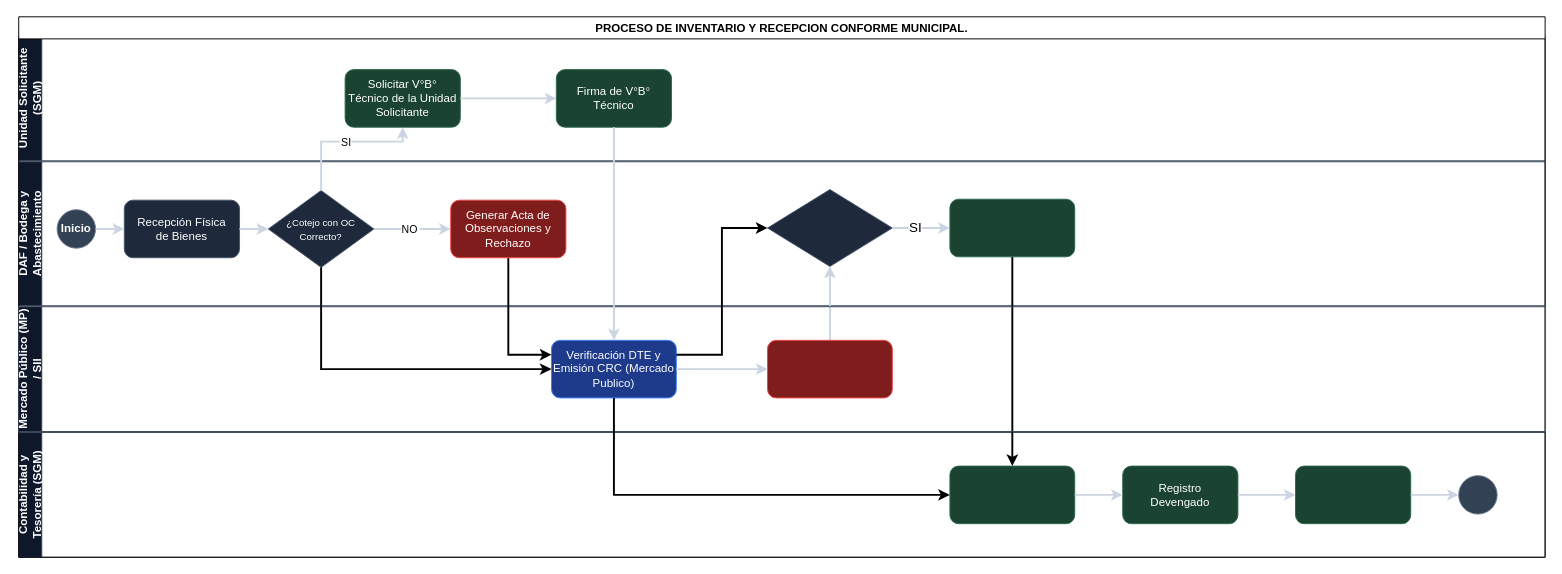
This 1562x574 diagram has some shape labels left out. The shapes that lost their labels are listed below. From the top down, each one's box as (x1, y1, x2, y2) in pixels, then its label:
(767, 189, 892, 266): ¿Recepción Conforme Registrada en MP?
(949, 198, 1075, 257): Clasificación NICSP y Codificación
(767, 339, 892, 398): Registrar Reclamo o Rechazo DTE
(949, 465, 1075, 524): Match 3 Vías (OC + CRC + DTE)
(1295, 465, 1411, 524): Emisión Decreto de Pago
(1458, 475, 1497, 514): Fin
